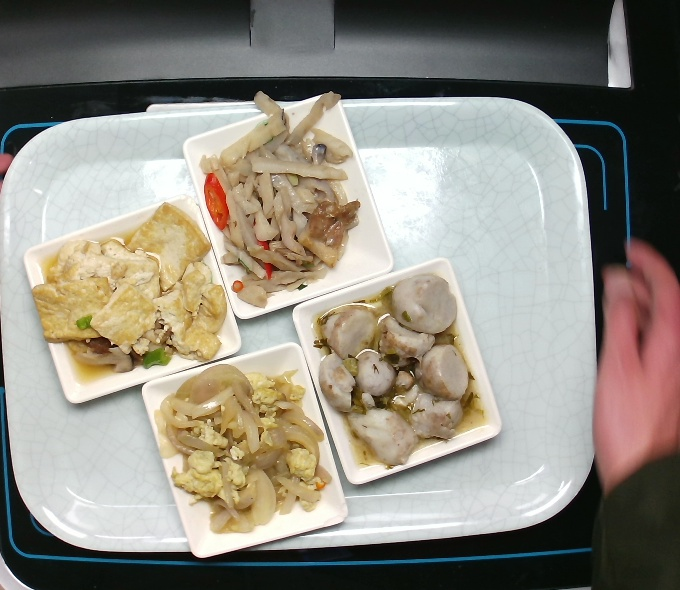wcq-JiaChangDouFu: (25, 201, 231, 373)
wcq-QingChaoOuPian: (193, 88, 365, 305)
wcq-YangCongChaoDan: (141, 363, 331, 536)
wcq-YangYu: (308, 272, 473, 470)
